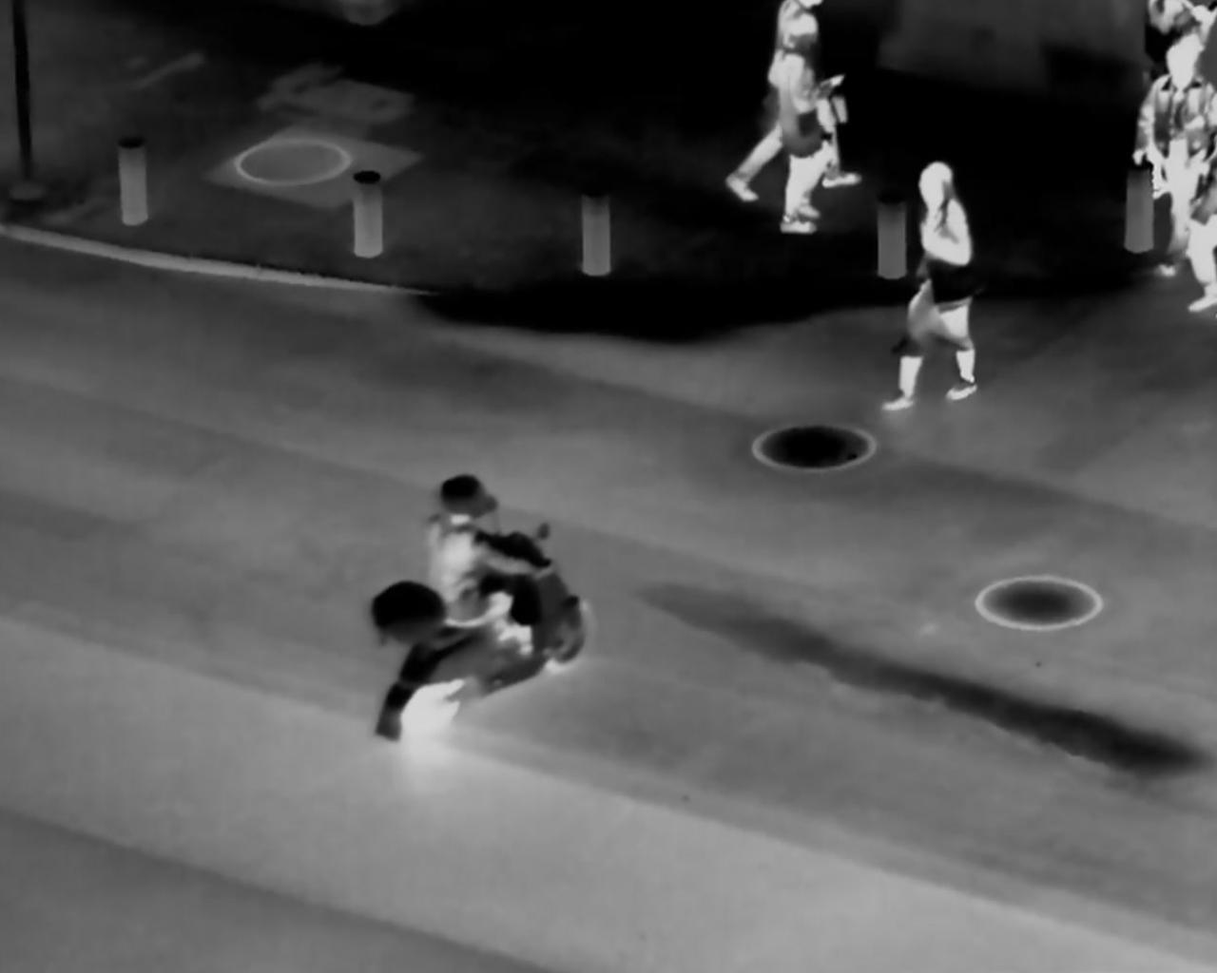person: (411, 448, 515, 709), (1127, 33, 1214, 283), (900, 161, 985, 414), (766, 12, 846, 240)
